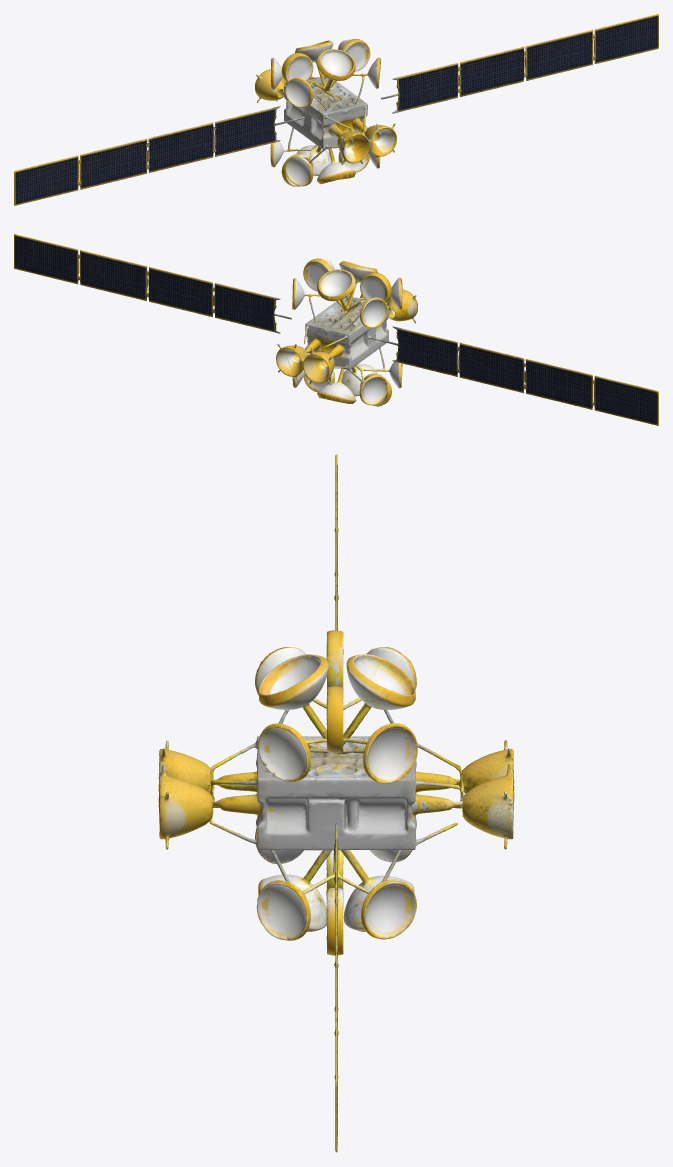
File: turksat5b.glb
The picture shows the model from 3 angles, top to bottom: view 1: azimuth 30°, elevation 25°; view 2: azimuth 150°, elevation 25°; view 3: azimuth 270°, elevation 25°; orthographic projection. The views are drawn at different scales.
Size of the model in its own units: 1.9 by 0.3694 by 0.4537.
1 material, 1 textured.
